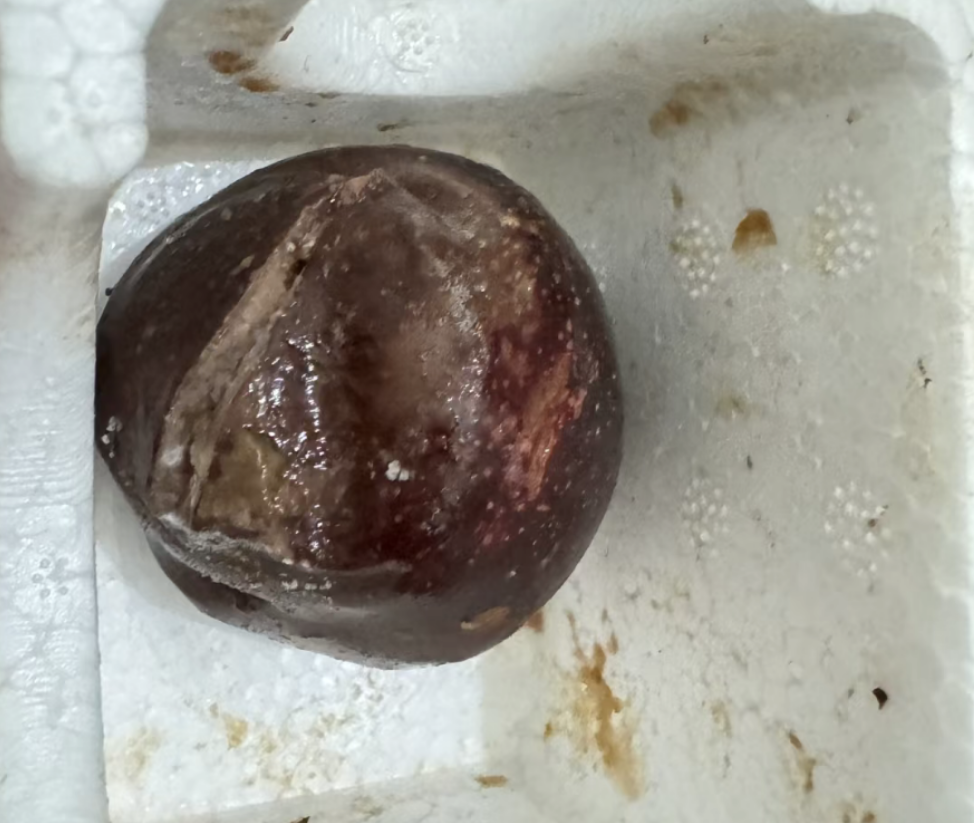plum_C: (97, 142, 626, 671)
